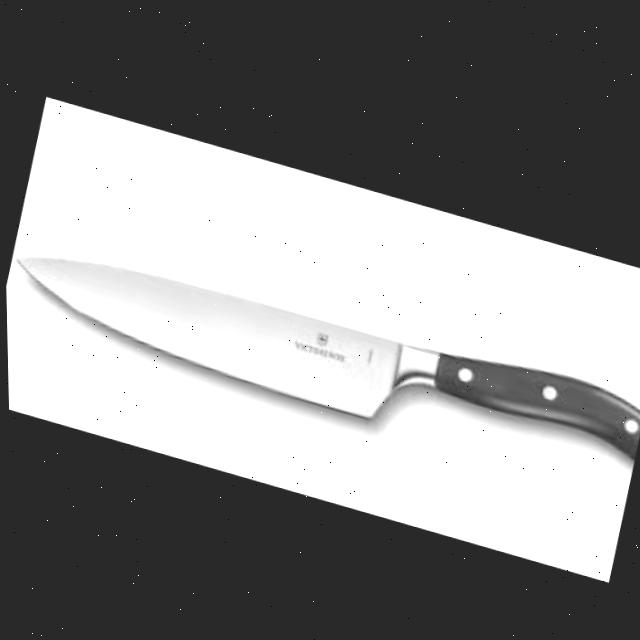Knife: (4, 214, 640, 487)
